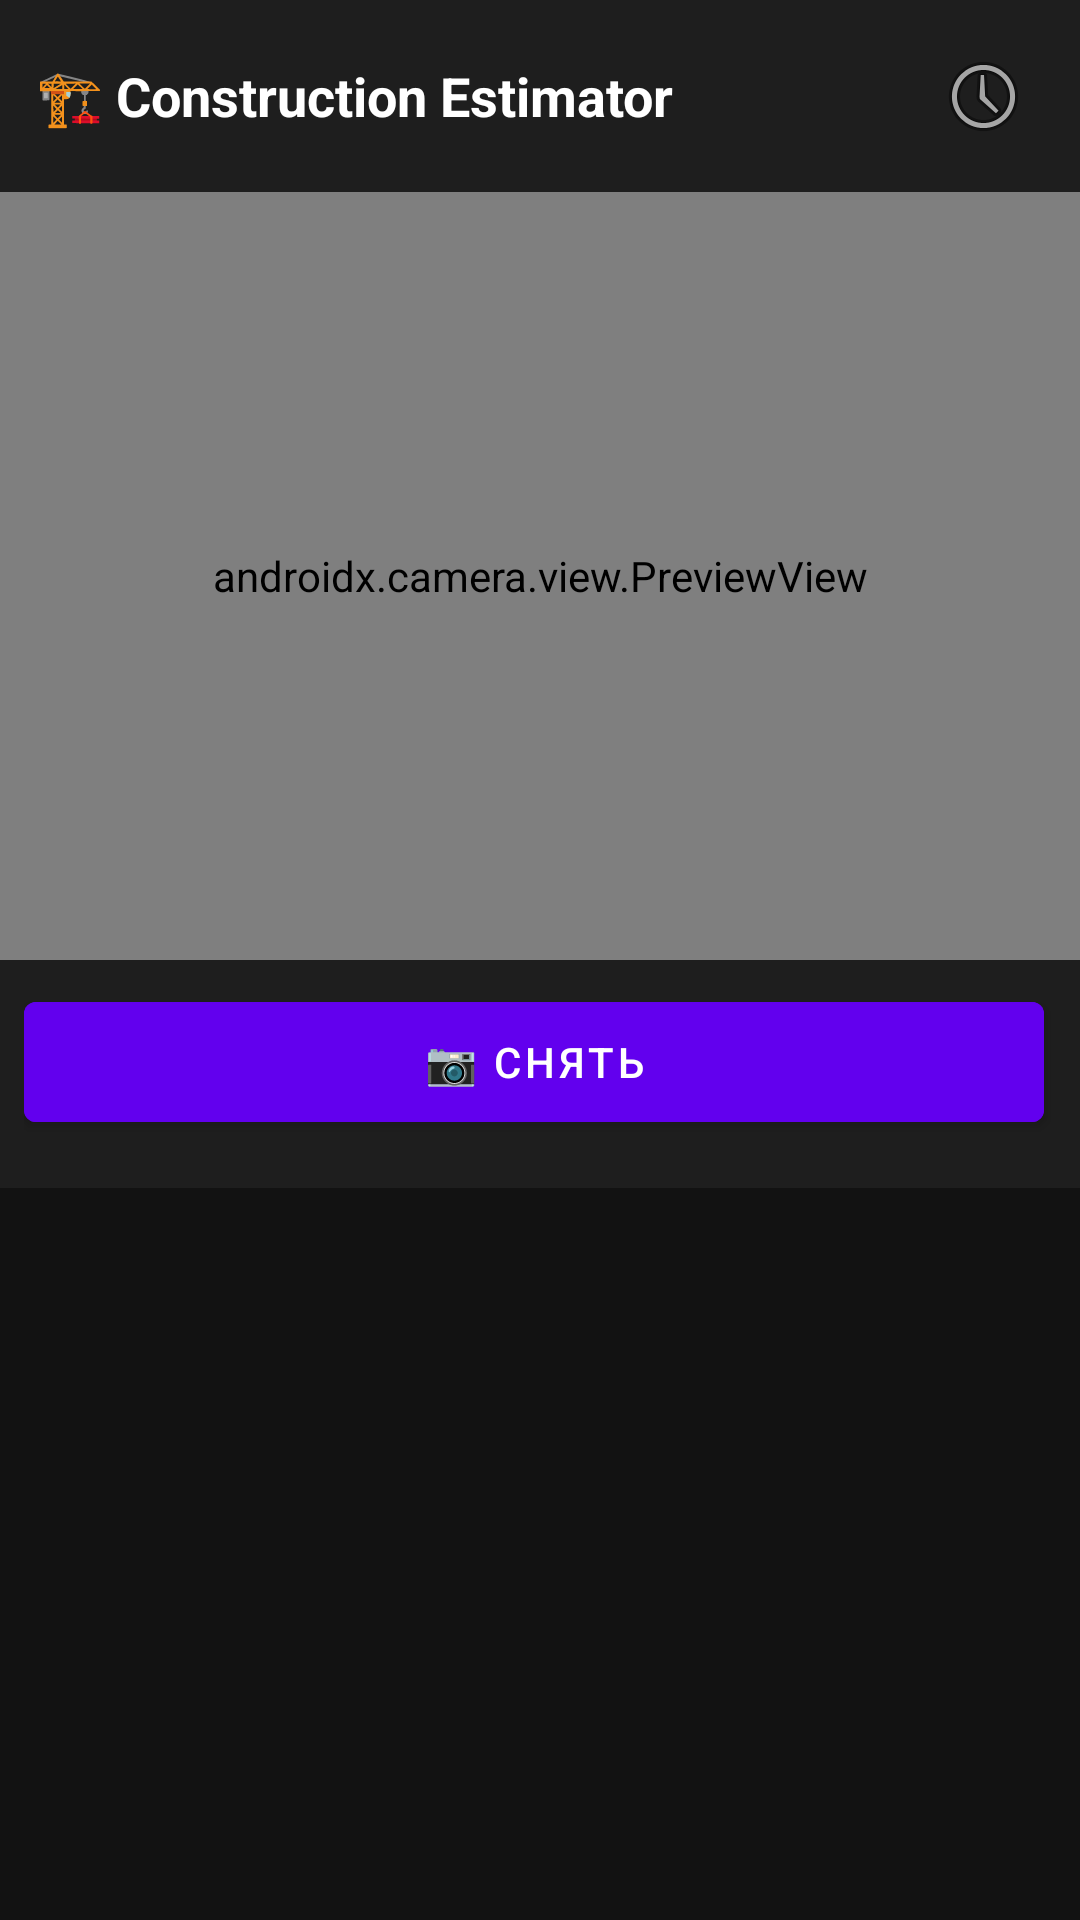

Named icons in this screenshot (1080*1920) and their centers, point (x, y):
История: point (983, 96)
